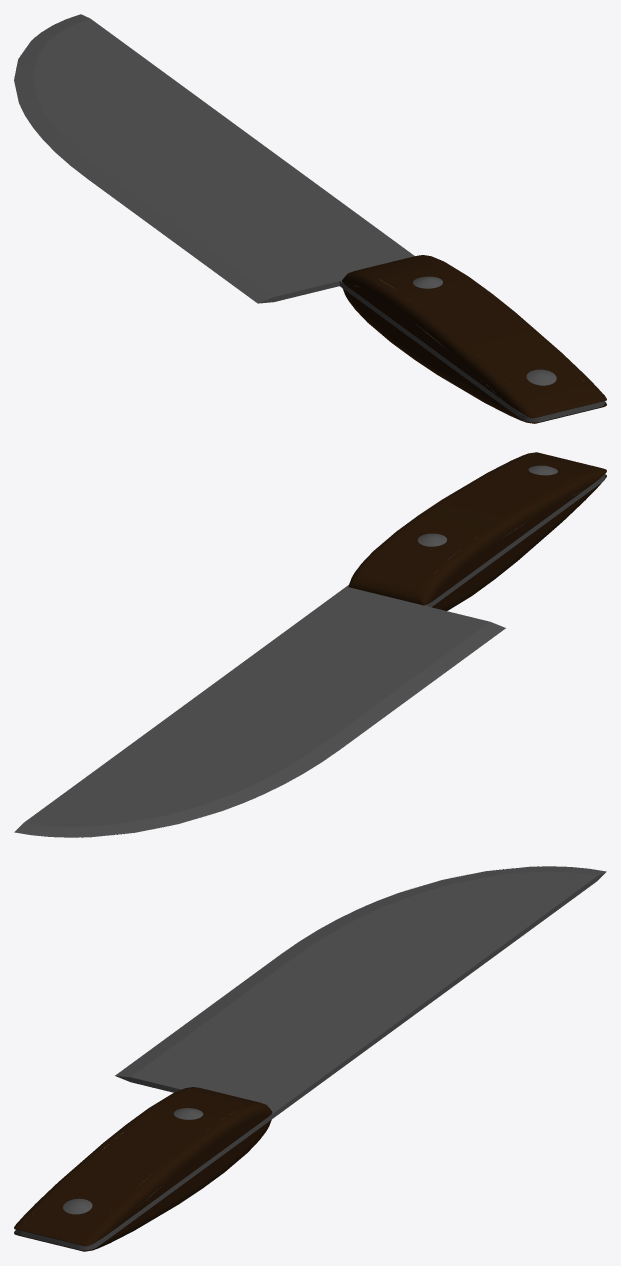
The model's file is noz.FBX.
3 views of the same model, one above another, from view 1: azimuth 30°, elevation 25°; view 2: azimuth 150°, elevation 25°; view 3: azimuth 330°, elevation 25° (orthographic). The views are drawn at different scales.
Parts seen in each view (by area): view 1: DirectConnectNode_8-DC_Shell (×3); view 2: DirectConnectNode_8-DC_Shell (×3); view 3: DirectConnectNode_8-DC_Shell (×3).
Part boxes in pixels (x1,y1,x2,y2): DirectConnectNode_8-DC_Shell (×3): (14, 14, 606, 423); DirectConnectNode_8-DC_Shell (×3): (14, 452, 606, 837); DirectConnectNode_8-DC_Shell (×3): (14, 866, 606, 1251).
Bounding box in the file's own units: 50 × 16.99 × 280.
